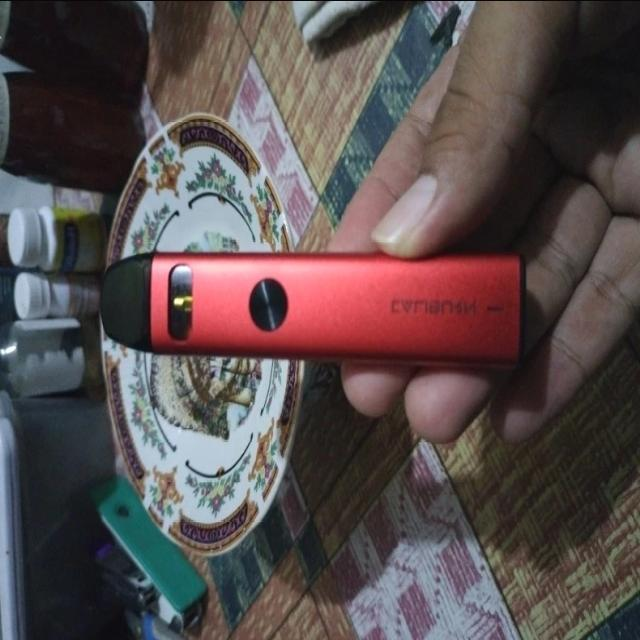Hazard: (99, 250, 526, 376)
